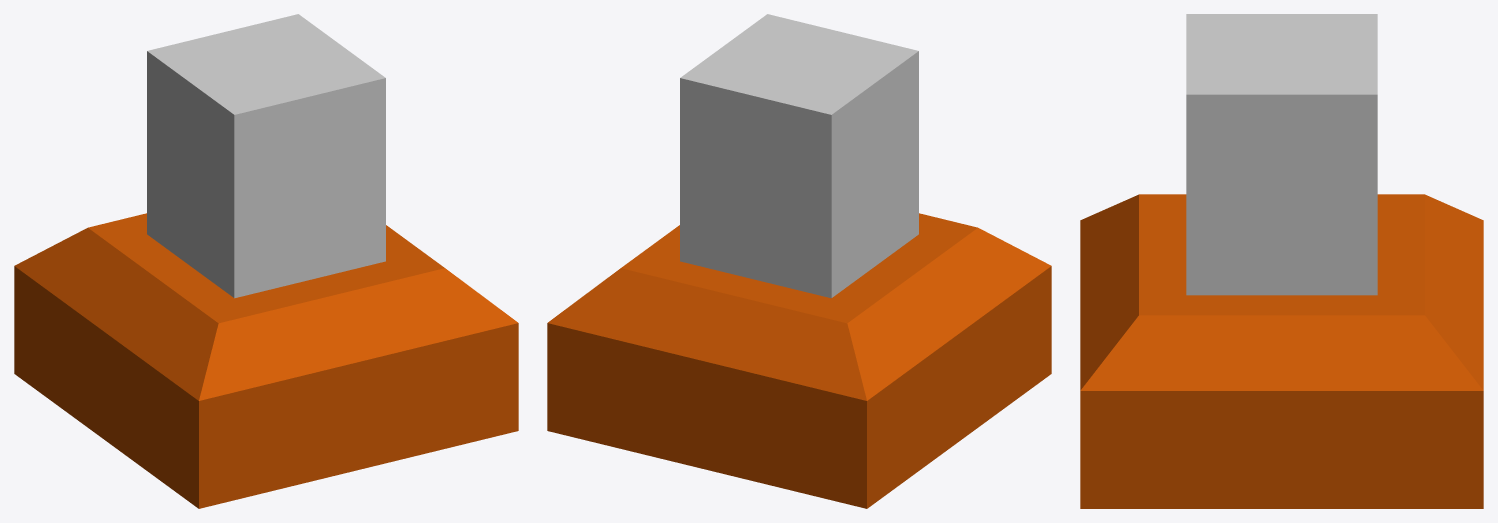
Rendered from Generator.fbx.
3 renders of one model, left to right at view 1: azimuth 30°, elevation 25°; view 2: azimuth 150°, elevation 25°; view 3: azimuth 270°, elevation 25°, orthographic. The views are drawn at different scales.
Parts seen in each view (by area): view 1: GeneratorBase, GeneratorBlock; view 2: GeneratorBase, GeneratorBlock; view 3: GeneratorBase, GeneratorBlock.
Boxes of the visible parts, x1,y1,x2,y2 form: GeneratorBase: (14, 213, 518, 508); GeneratorBlock: (147, 14, 385, 298); GeneratorBase: (547, 213, 1051, 508); GeneratorBlock: (680, 14, 918, 298); GeneratorBase: (1080, 194, 1483, 508); GeneratorBlock: (1186, 14, 1377, 295).
Size of the model in its own units: 100 by 101 by 100.
